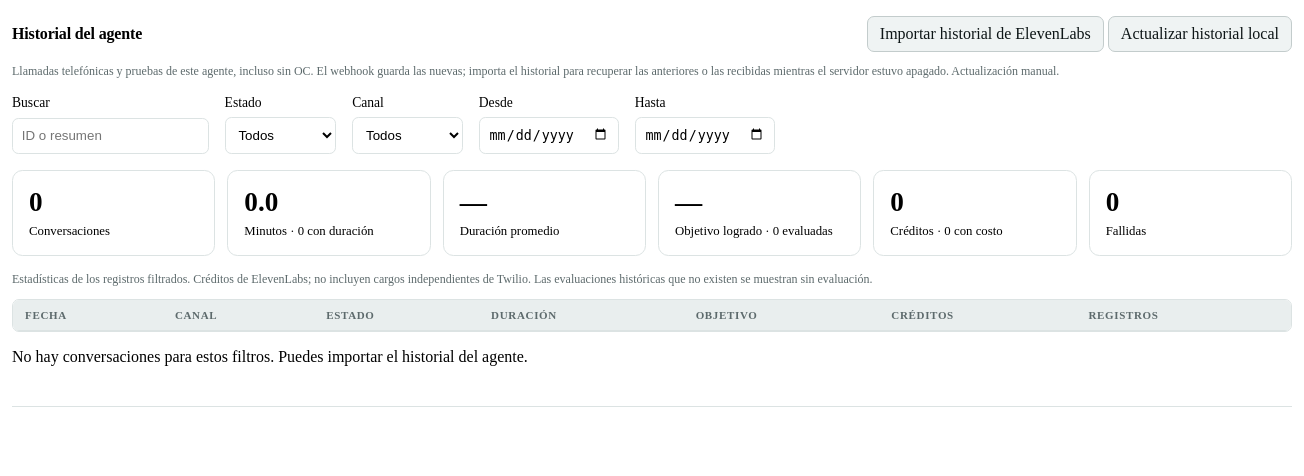
it: historial del agente › informa un error del proveedor y permite volver a intentarlo
Check: the text "No hay conversaciones" is shown, box [12,348,528,365]
Click the button "Importar historial de ElevenLabs" at (985, 34), box [867,16,1104,52]
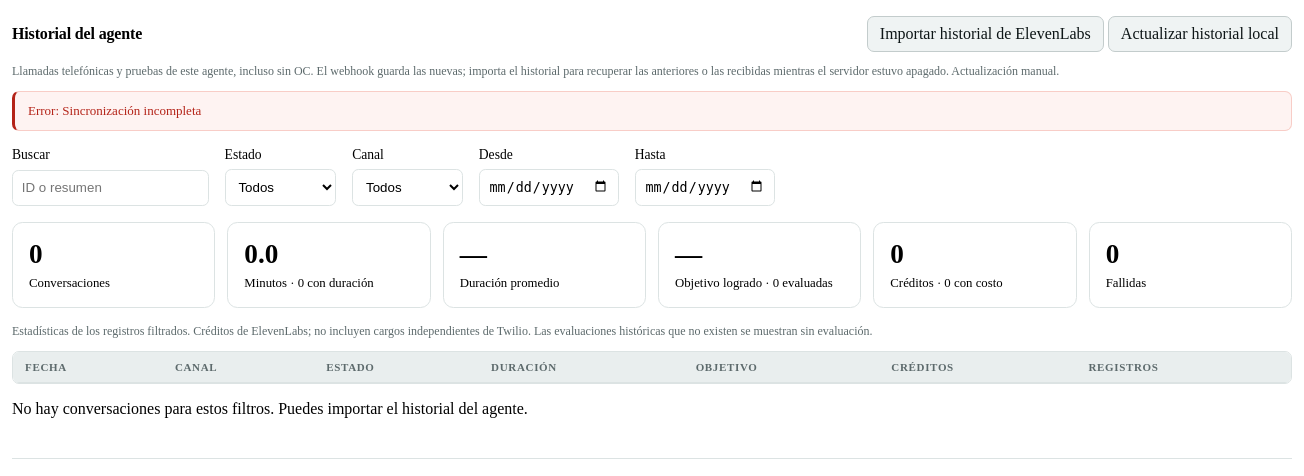
Check: the message shows "Sincronización incompleta", box [28,103,201,118]
